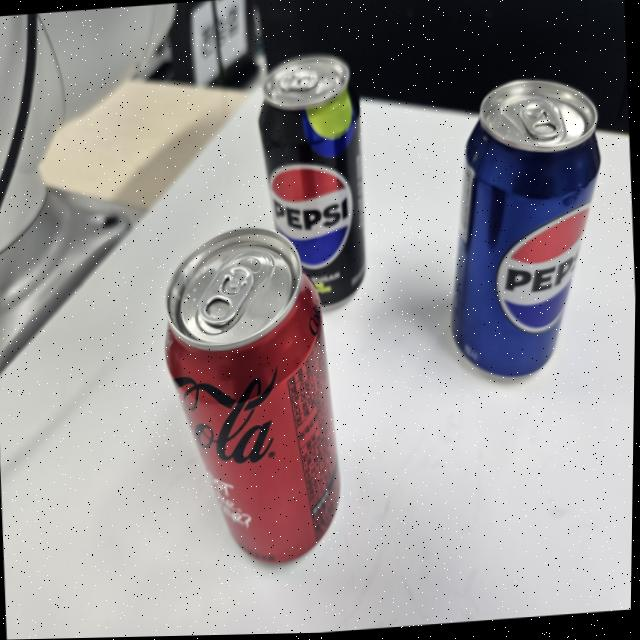can_coke_zero: (165, 230, 344, 568)
can_pepsi: (452, 77, 604, 382)
can_pepsi_zero: (260, 55, 368, 309)
